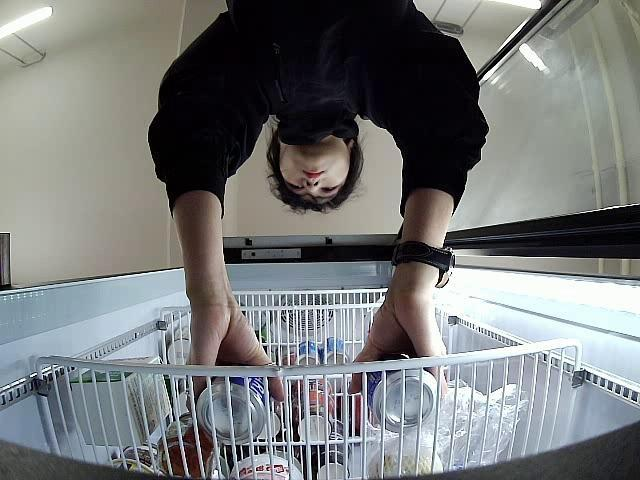13_pocariSweat: (363, 354, 438, 434), (197, 364, 270, 444)
